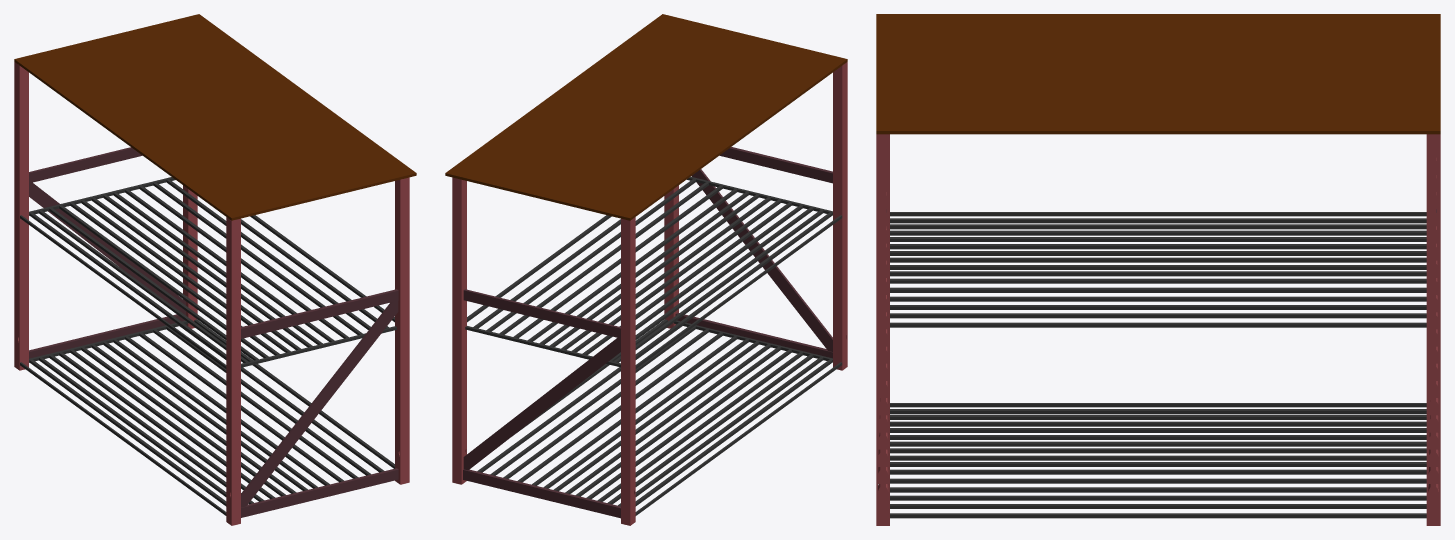
The model's file is RepisaFinal.fbx.
The picture shows the model from 3 angles, left to right: view 1: azimuth 30°, elevation 25°; view 2: azimuth 150°, elevation 25°; view 3: azimuth 270°, elevation 25°; orthographic projection. The views are drawn at different scales.
Visible parts, largest first — view 1: RepisaUnida; view 2: RepisaUnida; view 3: RepisaUnida.
Part boxes in pixels (<box>): RepisaUnida: <box>14,14,416,525</box>; RepisaUnida: <box>445,14,847,525</box>; RepisaUnida: <box>876,14,1440,525</box>.
Size of the model in its own units: 219 by 349 by 447.
